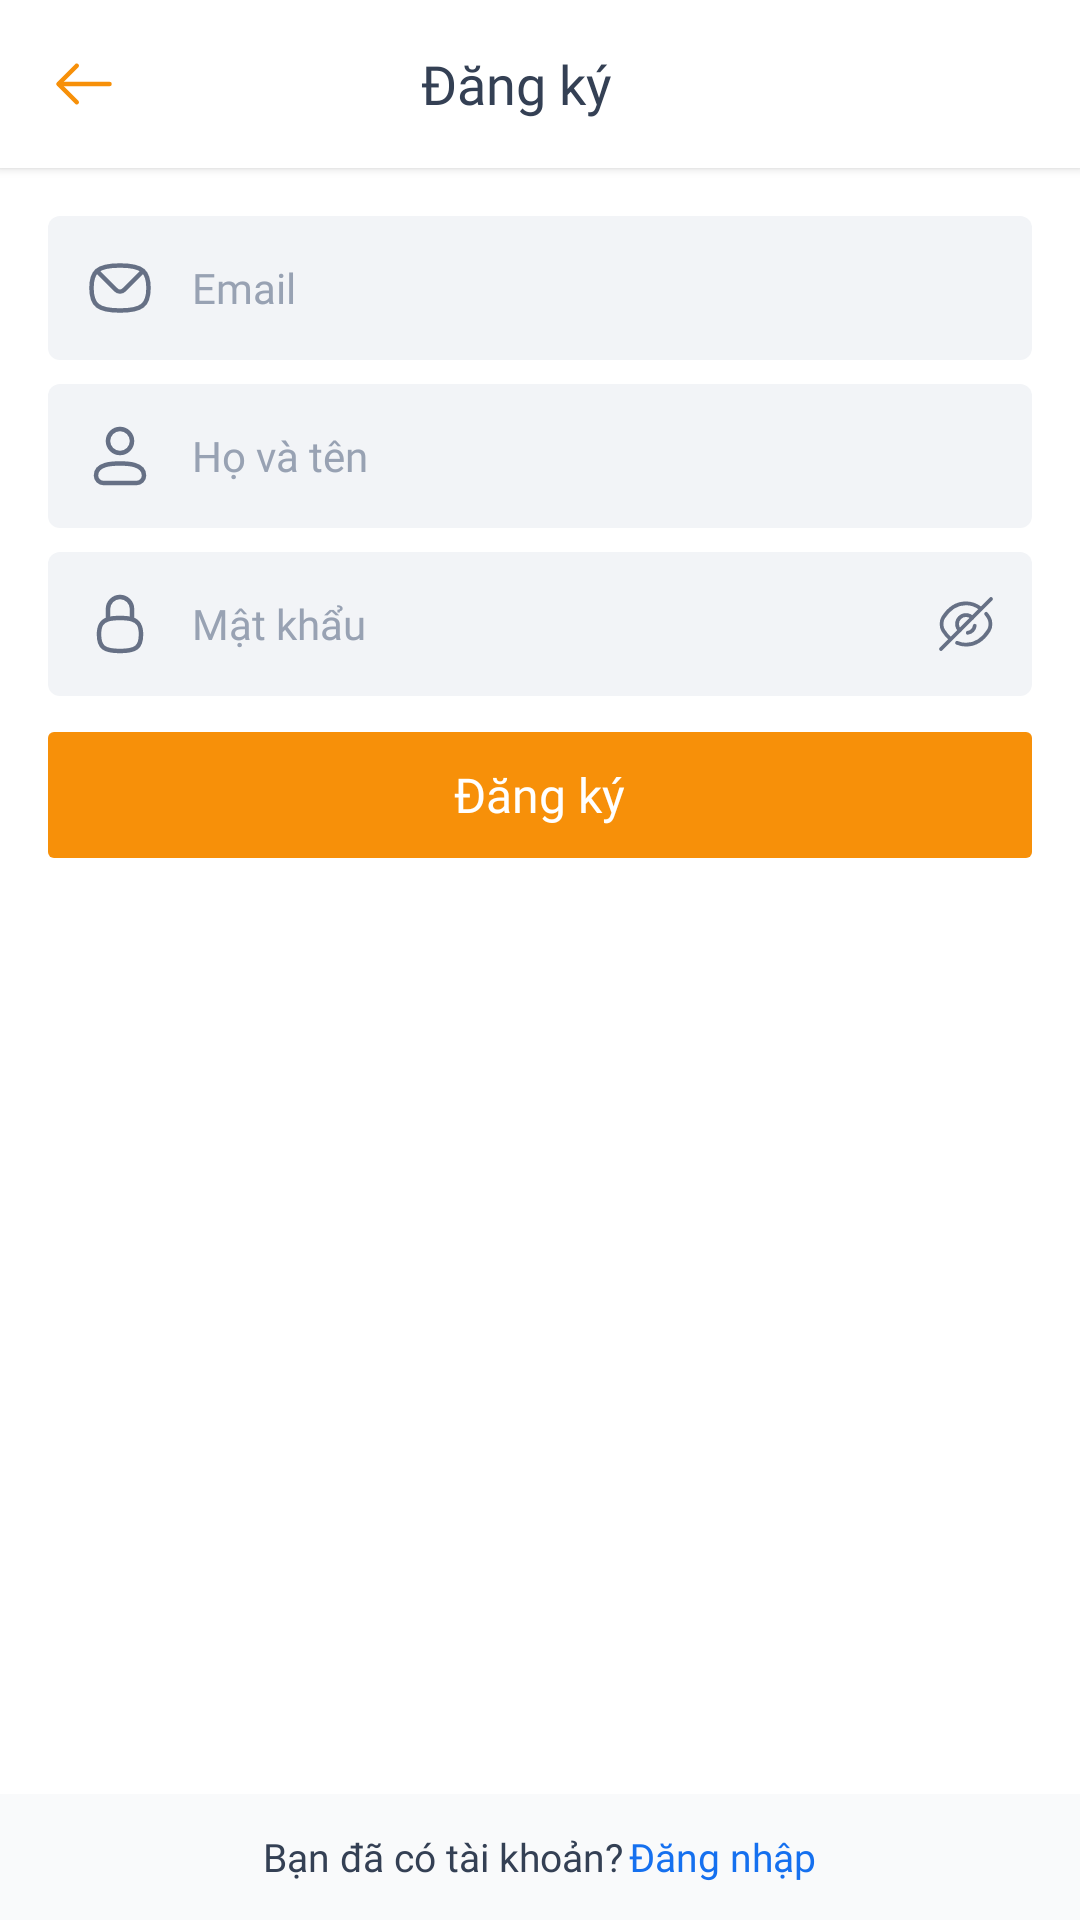

Screen size 1080 × 1920. Icon name, then its center in pixels as (x=x, y=y):
eye off: (x=966, y=624)
